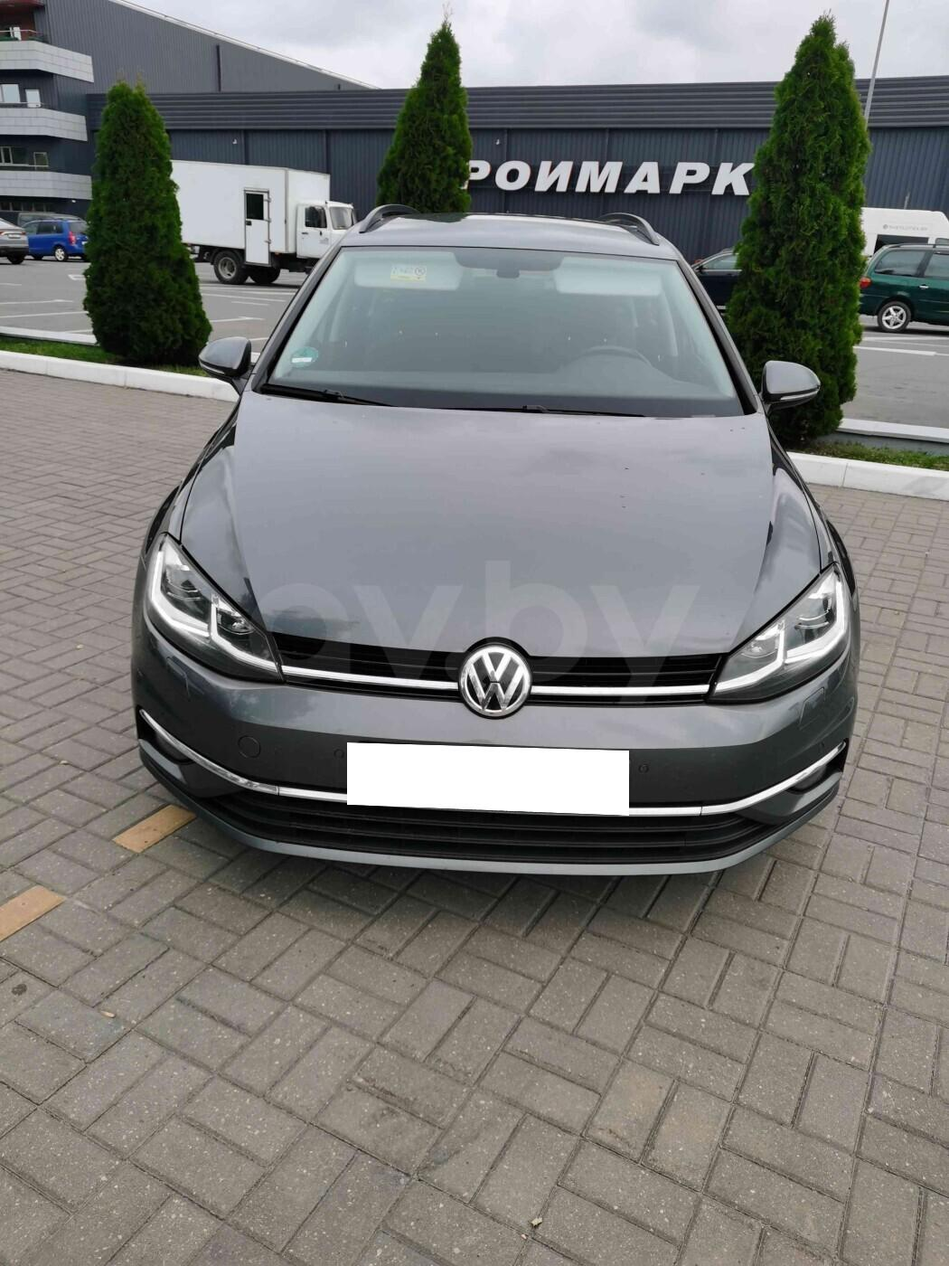Golf_2017-2021: (132, 206, 866, 897)
